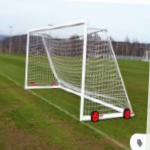goals: (25, 19, 135, 122)
